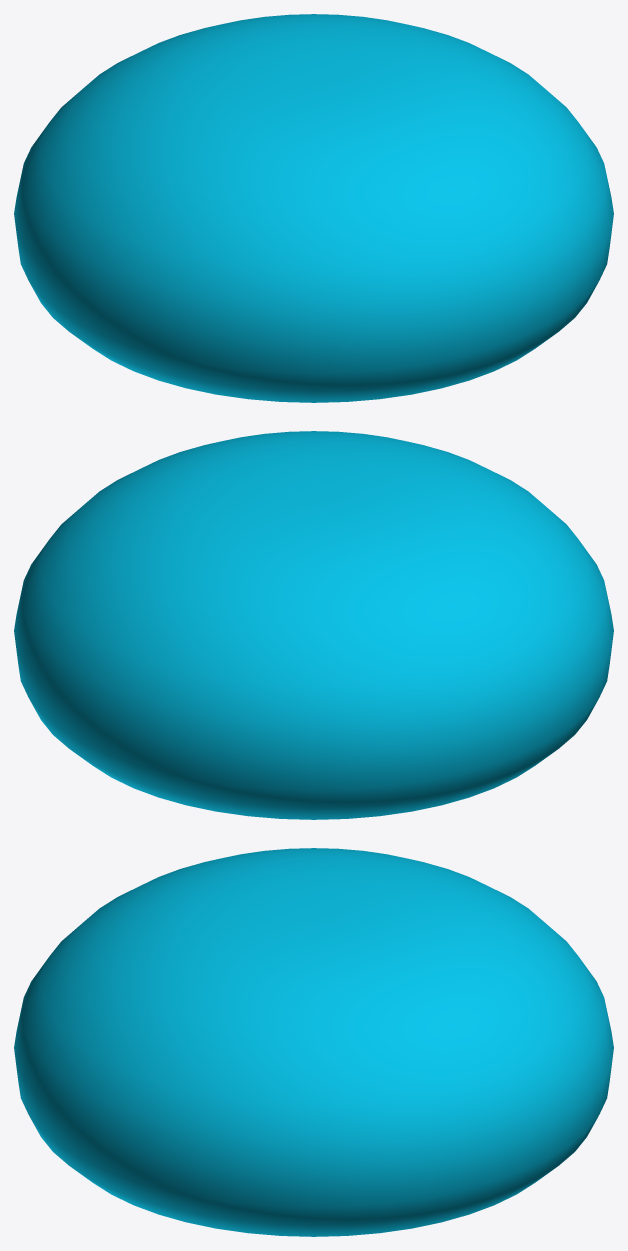
Rendered from slimeC.fbx.
The picture shows the model from 3 angles, top to bottom: view 1: azimuth 30°, elevation 25°; view 2: azimuth 150°, elevation 25°; view 3: azimuth 270°, elevation 25°; orthographic projection.
Parts seen in each view (by area): view 1: slime; view 2: slime; view 3: slime.
Part boxes in pixels (bbox=[...]): slime: bbox=[14, 14, 613, 402]; slime: bbox=[14, 431, 613, 819]; slime: bbox=[14, 848, 613, 1236].
Bounding box in the file's own units: 198 × 85.13 × 198.
